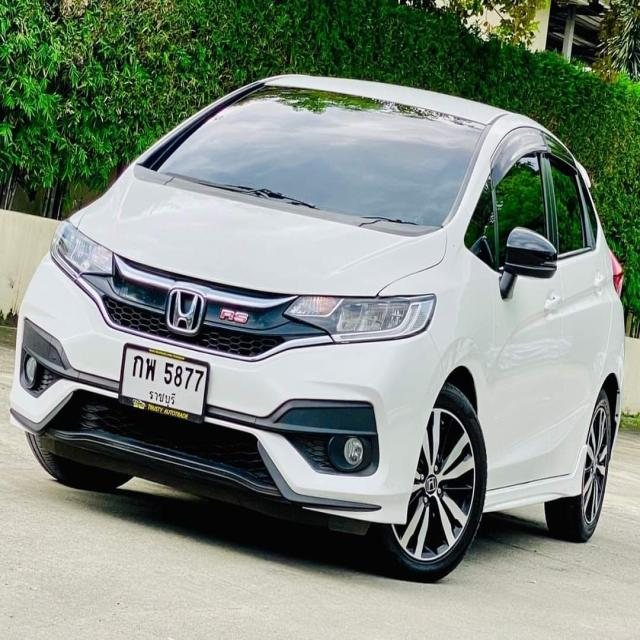license_plate: (118, 341, 210, 430)
